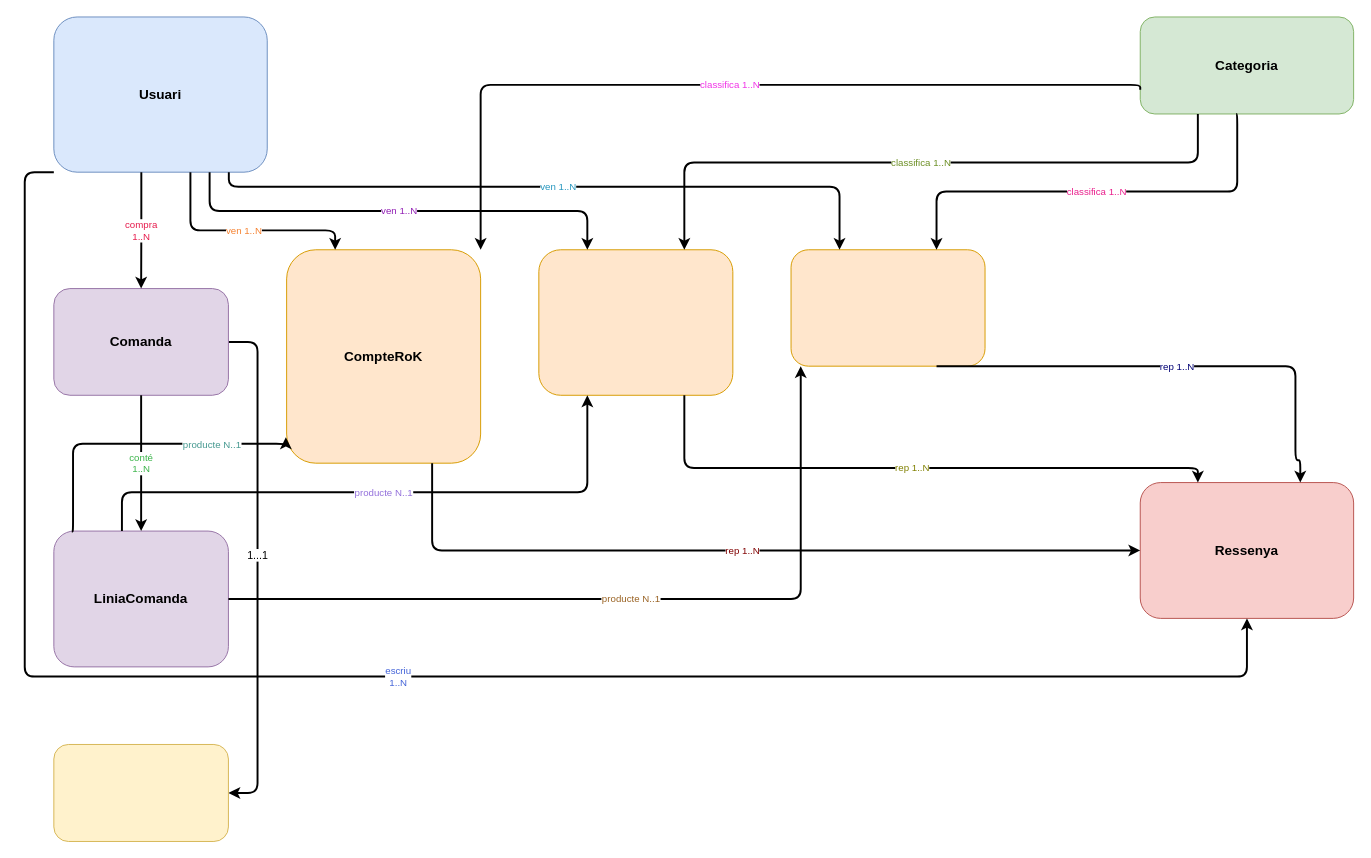
Image size: 1371x858. Some labels were removed from this diagram. Each missing label, with the box of its shape:
BotRoK: (790, 249, 985, 366)
Pagament: (53, 744, 228, 841)
RecursosRoK: (538, 249, 733, 395)
